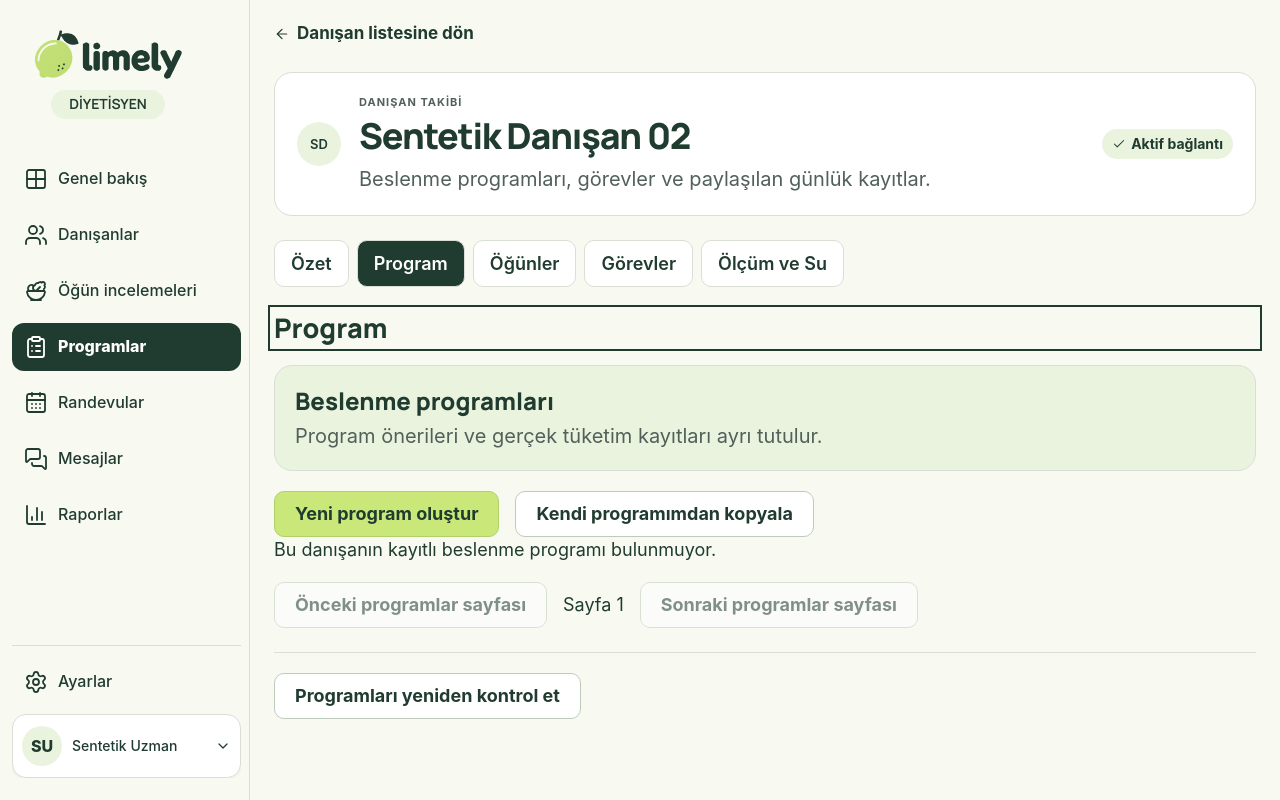
Scenario: client selection across workspace features › carries the client from their profile into a feature sidebar destination
Click the link "Öğün incelemeleri".
click(110, 291)  # box [24, 279, 197, 303]
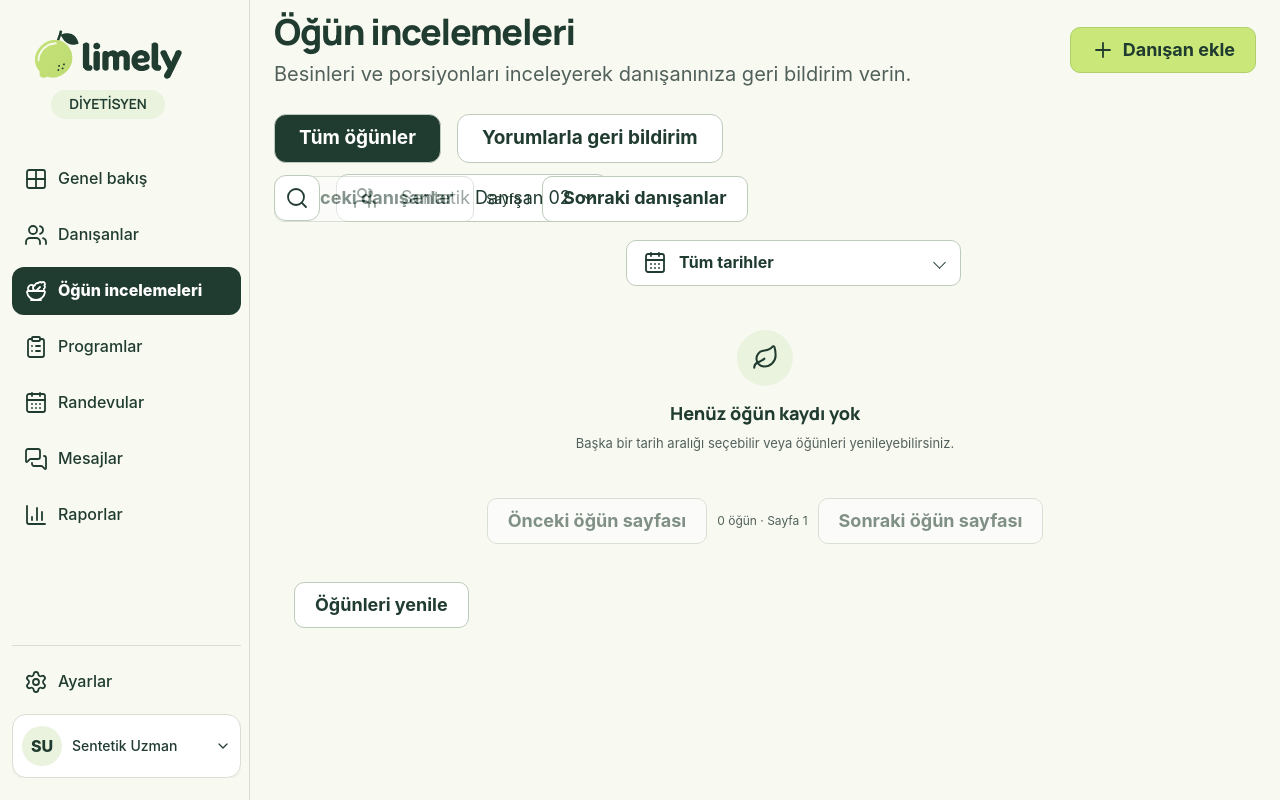
Expected: the dropdown named "Danışan seç" shows "Sentetik Danışan 02", [389, 175, 608, 221]
